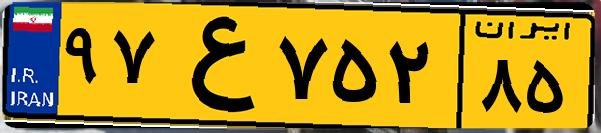2: (385, 28, 445, 110)
5: (330, 28, 385, 110), (525, 38, 570, 115)
7: (270, 28, 330, 110), (110, 28, 158, 98)
8: (475, 38, 525, 113)
9: (57, 26, 110, 100)
ع: (158, 12, 270, 120)
